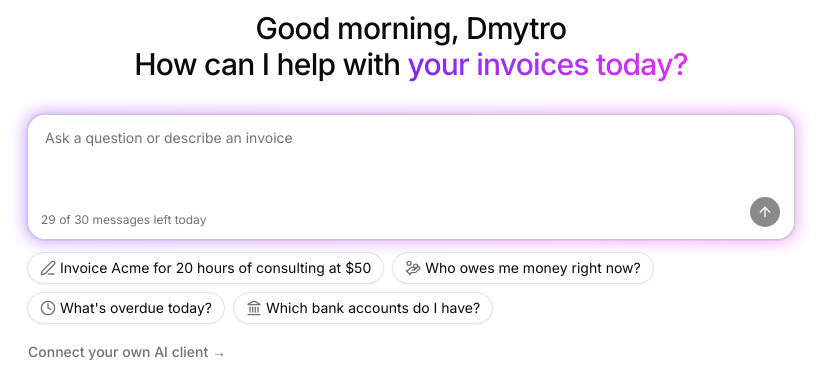
Test case: StartPanel - suggestion picked (AC-18) › only fills the composer and focuses it; nothing is sent
Click the button "What's overdue today?".
click(126, 308)  # box [27,292,225,324]
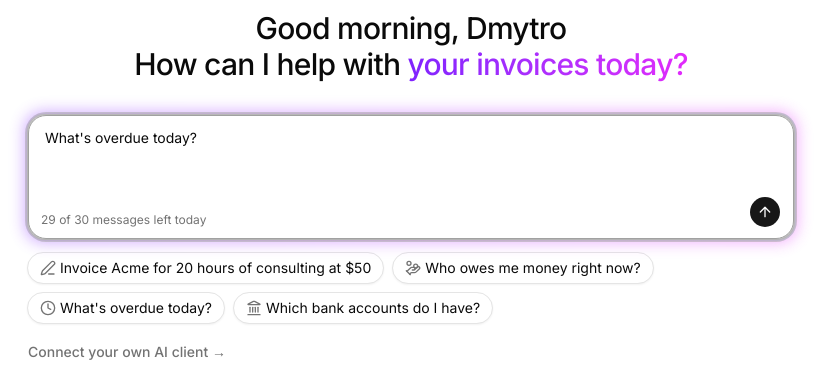
Expected: the text box holds "What's overdue today?", [29,116,793,196]
